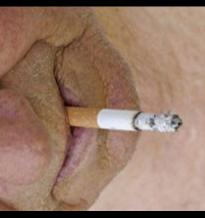Cigarette: (67, 105, 182, 132)
